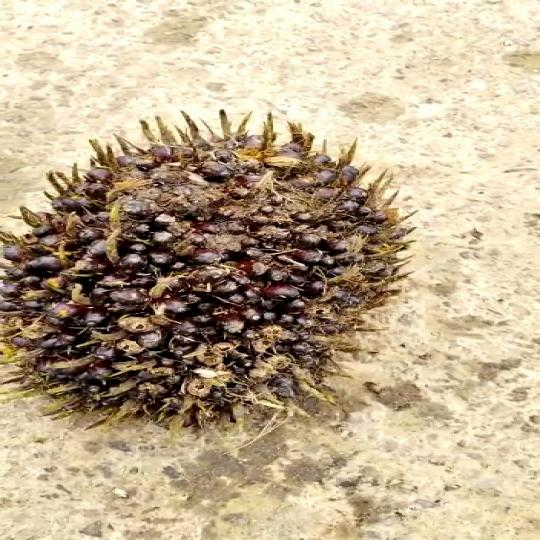kurang masak: (16, 100, 461, 439)
